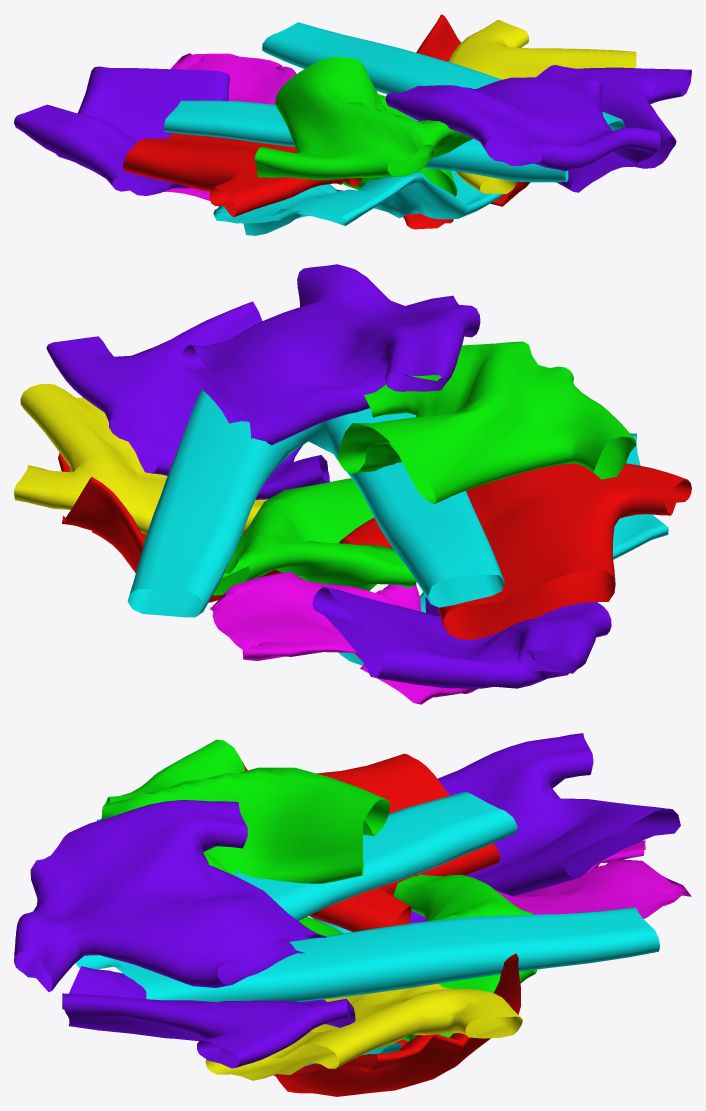
The model's file is Platform_3.fbx.
3 renders of one model, top to bottom at view 1: azimuth 30°, elevation 25°; view 2: azimuth 150°, elevation 25°; view 3: azimuth 270°, elevation 25°, orthographic. The views are drawn at different scales.
Visible parts, largest first — view 1: First_platform, Depth_1; view 2: First_platform, Depth_1; view 3: First_platform, Depth_1.
Boxes of the visible parts, x1,y1,x2,y2 form: First_platform: (14,14,691,235); Depth_1: (254,56,660,179); First_platform: (14,301,691,704); Depth_1: (180,264,636,503); First_platform: (62,733,691,1096); Depth_1: (14,739,389,992).
Bounding box in the file's own units: 5.66 × 1.87 × 4.74.
